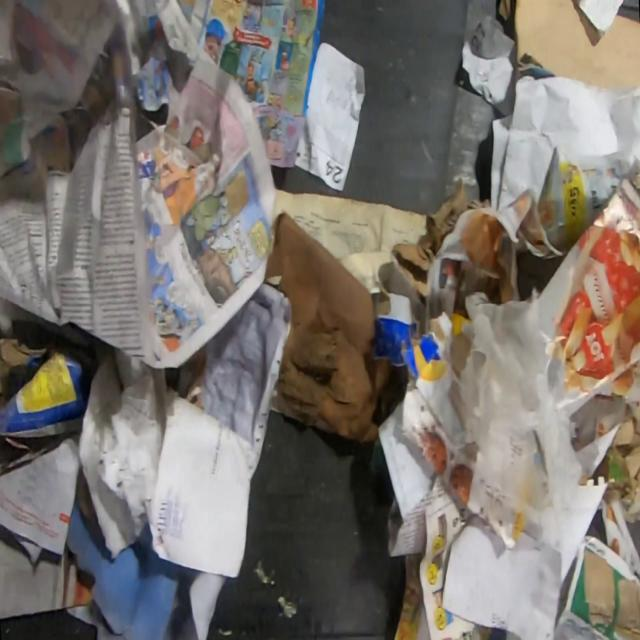cardboard: (497, 0, 640, 90), (390, 181, 490, 298), (370, 286, 470, 384), (0, 337, 85, 451)
